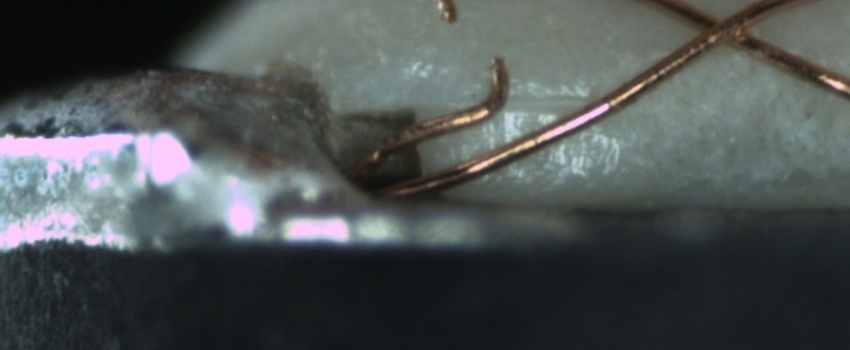CL: (681, 1, 774, 57)
DL: (451, 81, 615, 131)
